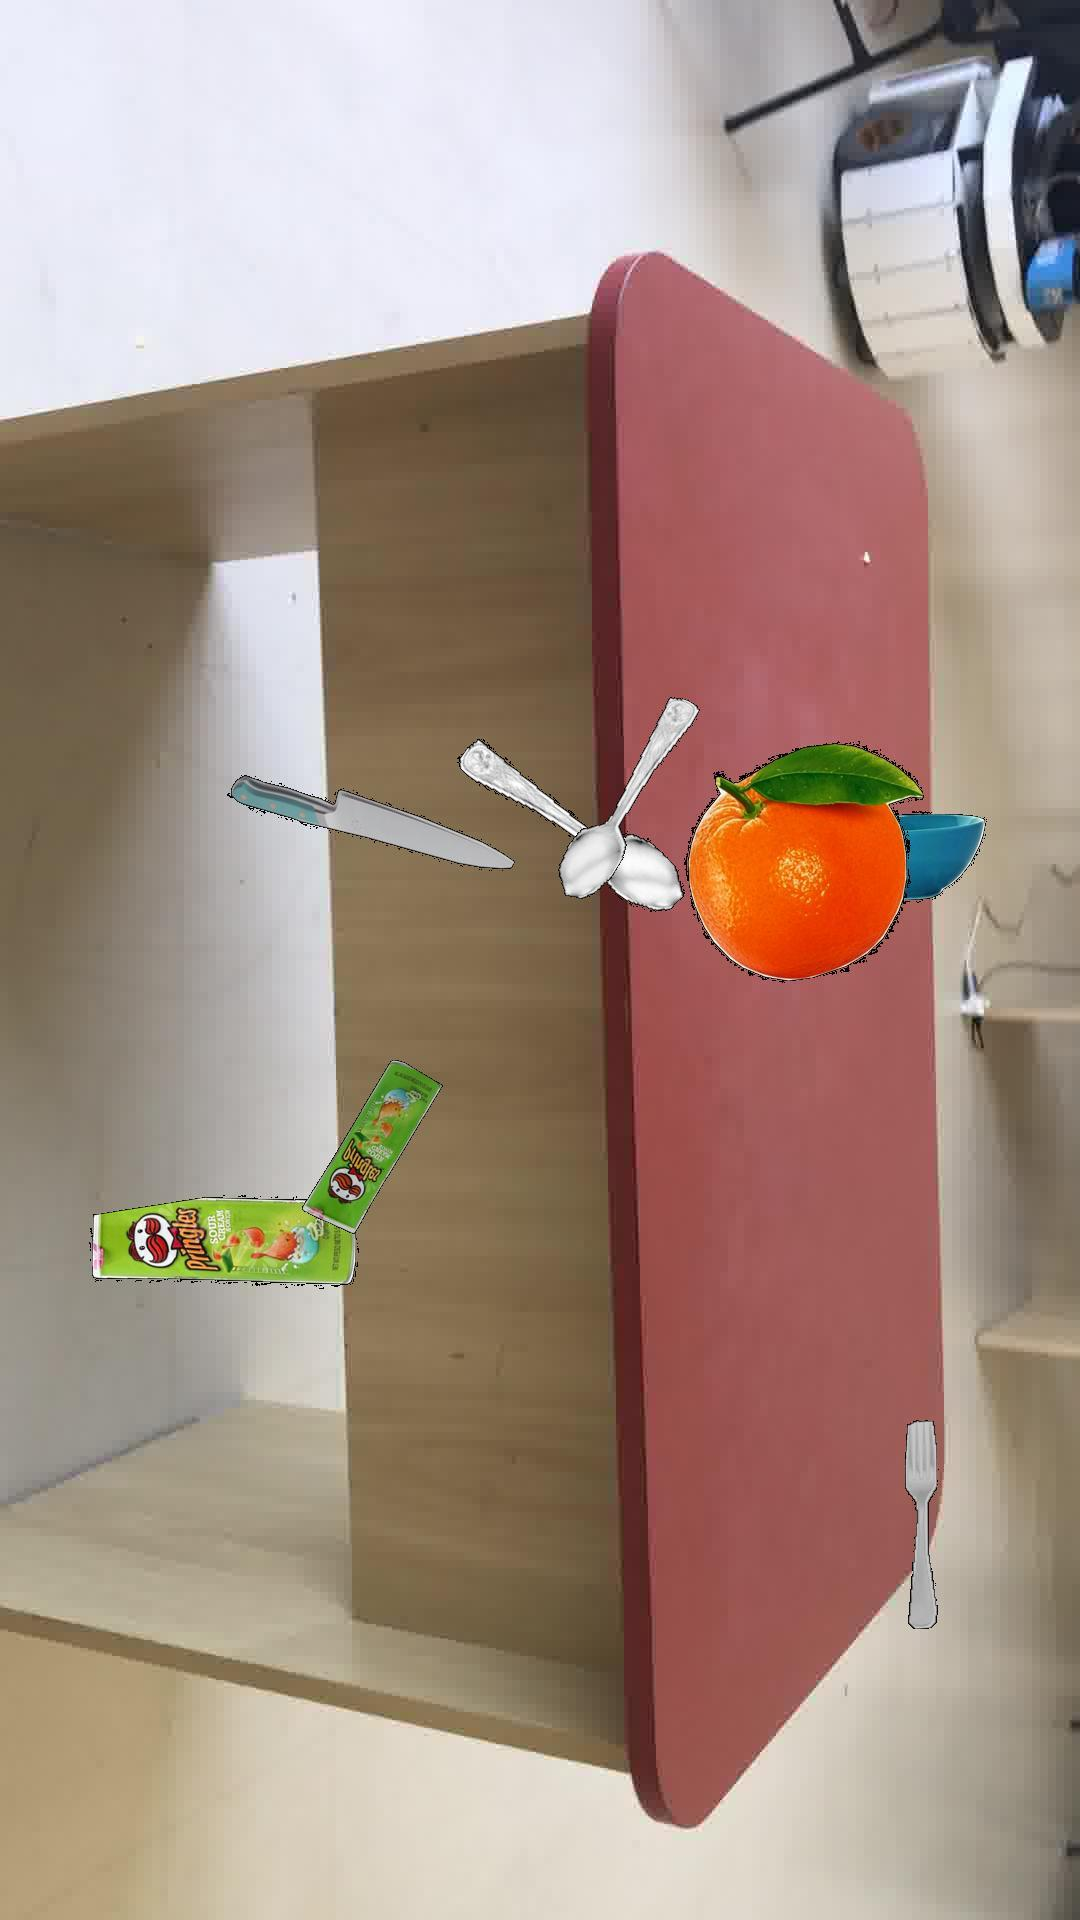bowl: (895, 810, 985, 899)
fork: (903, 1419, 936, 1627)
knife: (225, 774, 513, 868)
orange: (683, 740, 923, 981)
pringles: (301, 1059, 442, 1233), (88, 1196, 355, 1284)
spoon: (455, 737, 683, 910), (556, 695, 699, 898)
